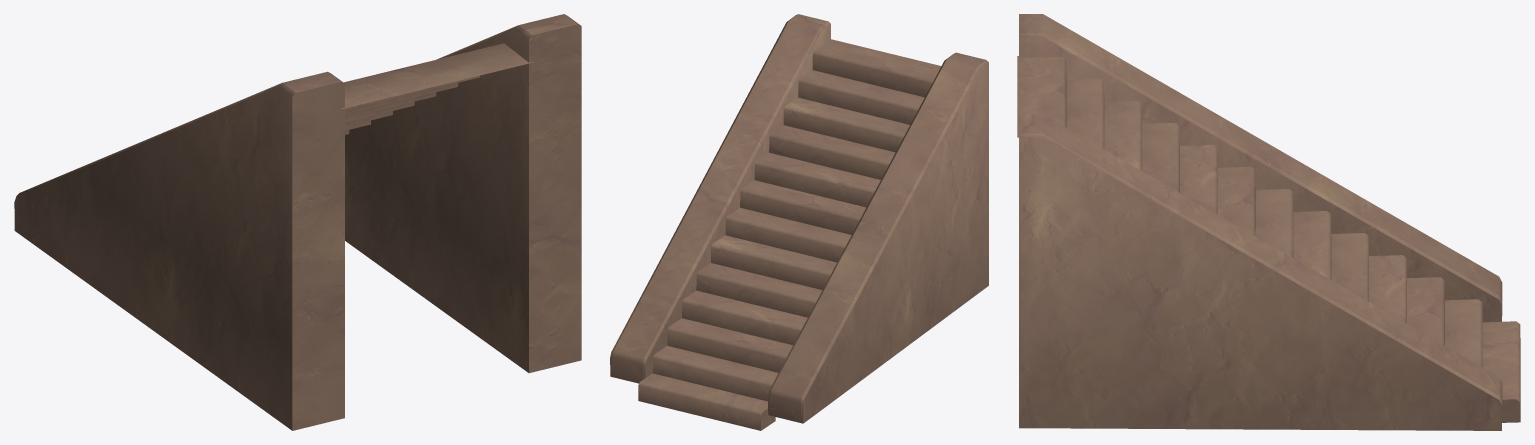
File: prop_Stairs_V3.fbx
The picture shows the model from 3 angles, left to right: view 1: azimuth 30°, elevation 25°; view 2: azimuth 150°, elevation 25°; view 3: azimuth 270°, elevation 25°; orthographic projection. The views are drawn at different scales.
Visible parts, largest first — view 1: prop_Stairs_V3; view 2: prop_Stairs_V3; view 3: prop_Stairs_V3.
Boxes of the visible parts, x1,y1,x2,y2 form: prop_Stairs_V3: [14, 14, 581, 430]; prop_Stairs_V3: [610, 14, 988, 430]; prop_Stairs_V3: [1017, 14, 1520, 430].
Bounding box in the file's own units: 528 × 625 × 917.
